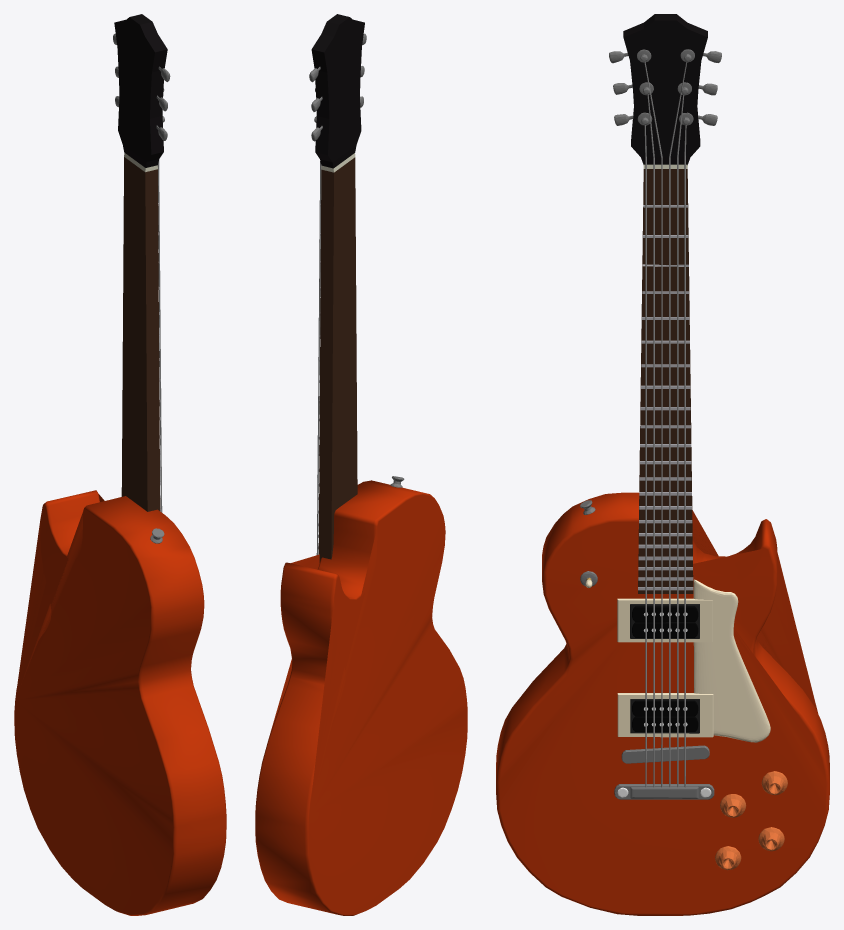
The model's file is Chitarra_elettrica.fbx.
The picture shows the model from 3 angles, left to right: view 1: azimuth 30°, elevation 25°; view 2: azimuth 150°, elevation 25°; view 3: azimuth 270°, elevation 25°; orthographic projection. The views are drawn at different scales.
Parts seen in each view (by area): view 1: Cylinder.013; view 2: Cylinder.013; view 3: Cylinder.013.
Boxes of the visible parts, x1,y1,x2,y2 form: Cylinder.013: [14, 14, 226, 915]; Cylinder.013: [255, 14, 467, 915]; Cylinder.013: [496, 14, 829, 915].
Size of the model in its own units: 26.67 by 328 by 110.
